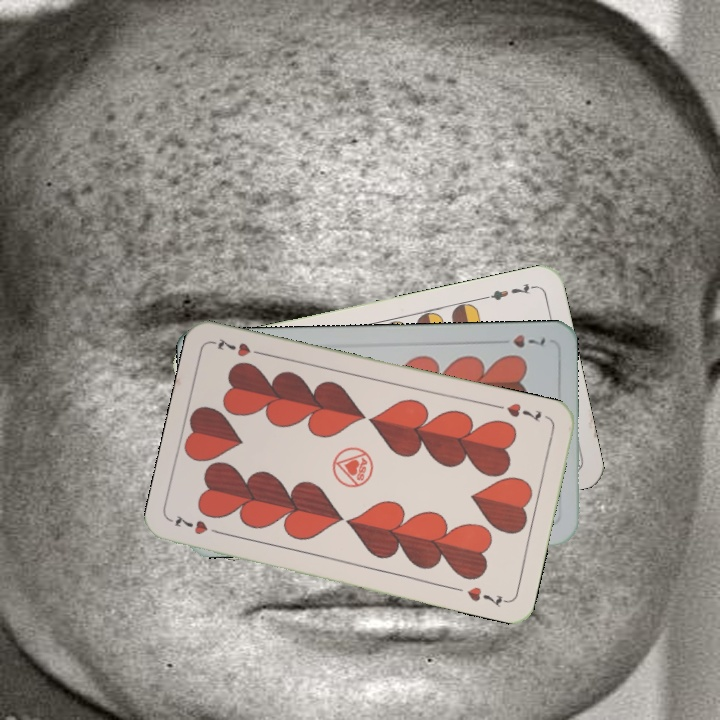E7: (479, 279, 538, 303)
H7: (168, 511, 227, 538), (503, 399, 544, 424), (509, 330, 548, 350)
